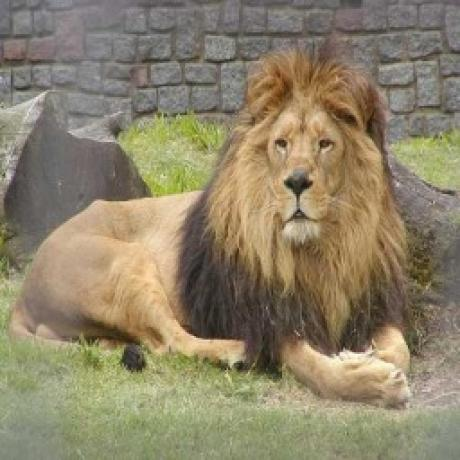Lion: (5, 42, 419, 413)
